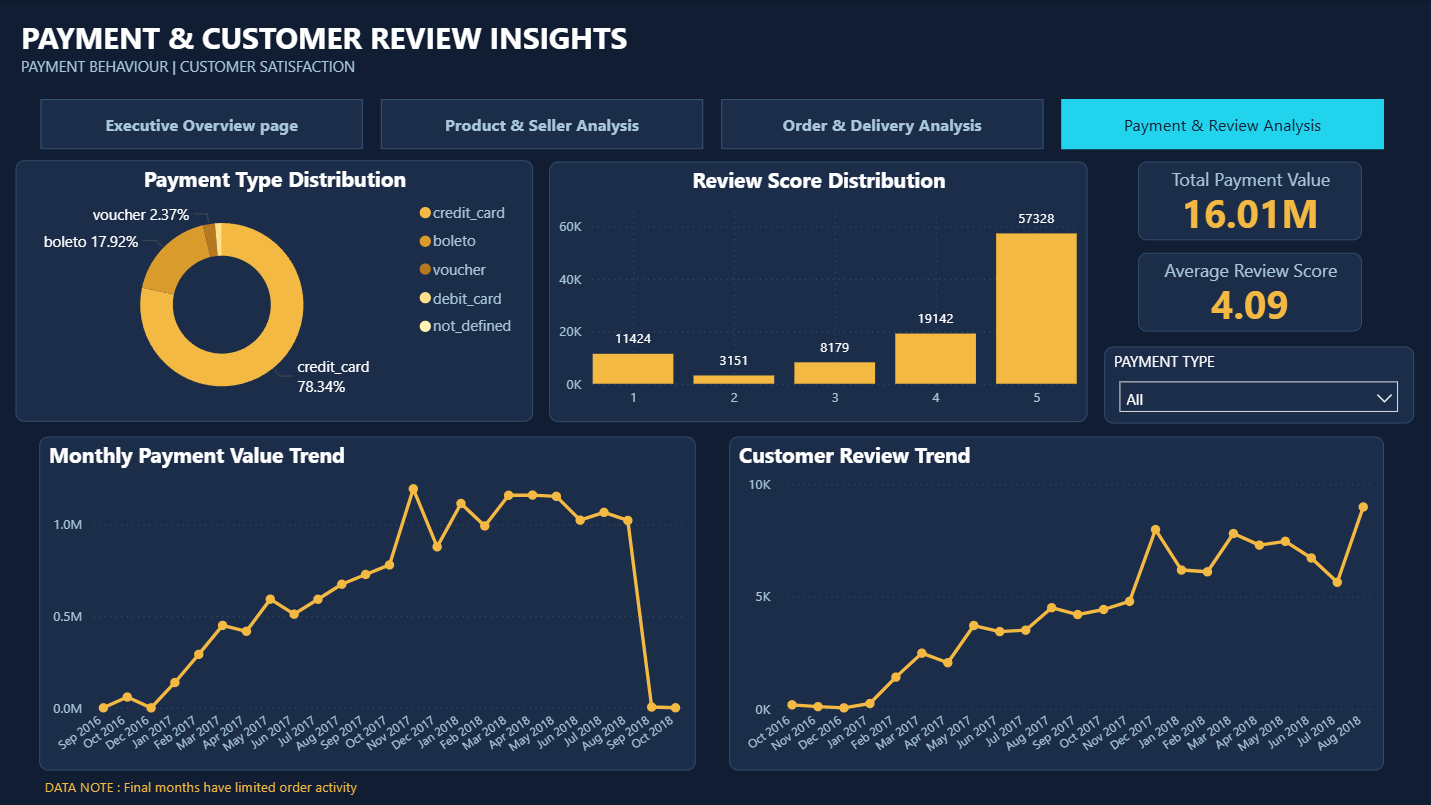

The dashboard page shown, as its layout file describes it:
{"tool":"powerbi","page":{"name":"Payment & Review Analysis","canvas":[1280,720],"ordinal":3},"visuals":[{"type":"pageNavigator","box":[38,89.3,1200.4,45.8],"z":0},{"type":"textbox","box":[15.5,11.6,1250.6,64.5],"z":1000},{"type":"card","title":"Total Payment Value","fields":{"Values":["measures_.Total Payment Value"]},"box":[1048,144.5,200,100],"z":1001},{"type":"card","title":"Average Review Score","fields":{"Values":["measures_.Average Review Score"]},"box":[1048,278.8,200,99.4],"z":1002},{"type":"donutChart","title":"Payment Type Distribution","fields":{"Category":["gold dim_payment_type.payment_type"],"Y":["measures_.Total Payment Value"]},"box":[15.5,144.5,462,233.6],"z":1003},{"type":"clusteredColumnChart","title":"Review Score Distribution","fields":{"Category":["gold fact_reviews.review_score"],"Y":["Sum(gold fact_reviews.review_count)"]},"box":[493,144.5,545.9,233.6],"z":1004},{"type":"lineChart","title":"Monthly Payment Value Trend","fields":{"Category":["gold dim_date.Year Month"],"Y":["measures_.Total Payment Value"]},"box":[36.9,390.3,586.1,298.8],"z":1005},{"type":"lineChart","title":"Customer Review Trend","fields":{"Category":["gold dim_date.Year Month"],"Y":["measures_.Reviews by Creation Date"]},"box":[653.5,390.3,584.8,298.8],"z":1006},{"type":"textbox","box":[36.9,689.1,333.1,30.5],"z":1007}]}

Visuals, with their boxes in screenshot pixels (x1, y1, x2, y2), scaled from the page's 1280x720 canvas onto the 1431x805 screenshot:
pageNavigator: x1=42 y1=100 x2=1384 y2=151
textbox: x1=17 y1=13 x2=1415 y2=85
"Total Payment Value" card: x1=1172 y1=162 x2=1395 y2=273
"Average Review Score" card: x1=1172 y1=312 x2=1395 y2=423
"Payment Type Distribution" donutChart: x1=17 y1=162 x2=534 y2=423
"Review Score Distribution" clusteredColumnChart: x1=551 y1=162 x2=1161 y2=423
"Monthly Payment Value Trend" lineChart: x1=41 y1=436 x2=696 y2=770
"Customer Review Trend" lineChart: x1=731 y1=436 x2=1384 y2=770
textbox: x1=41 y1=770 x2=414 y2=804
